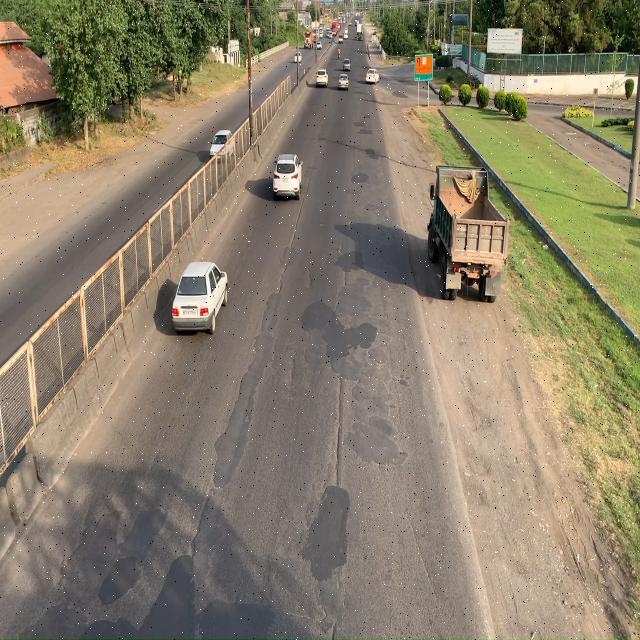Truck: (425, 160, 510, 303)
cars: (172, 258, 229, 334), (272, 149, 303, 204), (212, 125, 232, 166)
